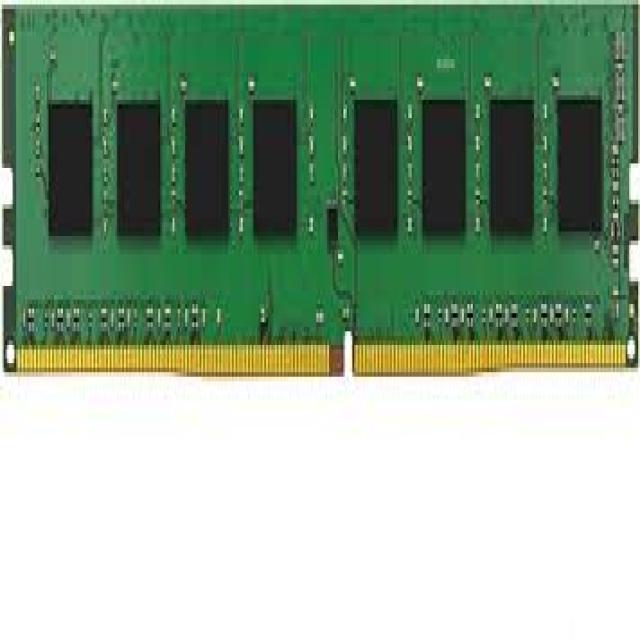Ram: (2, 15, 616, 533)
